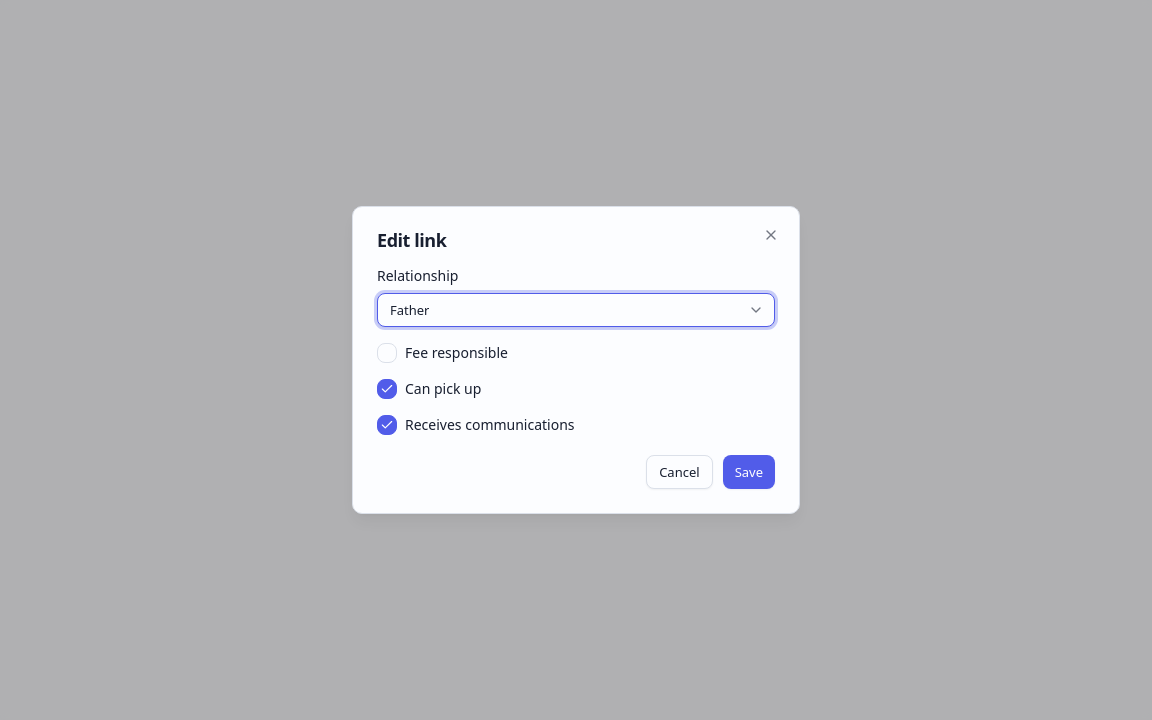
Scenario: GuardianLinkFlagsDialog › shows a server field error for a flag checkbox instead of failing silently
Step 1. Click the button "Save" → x=749, y=472, box left=723, top=455, right=775, bottom=489
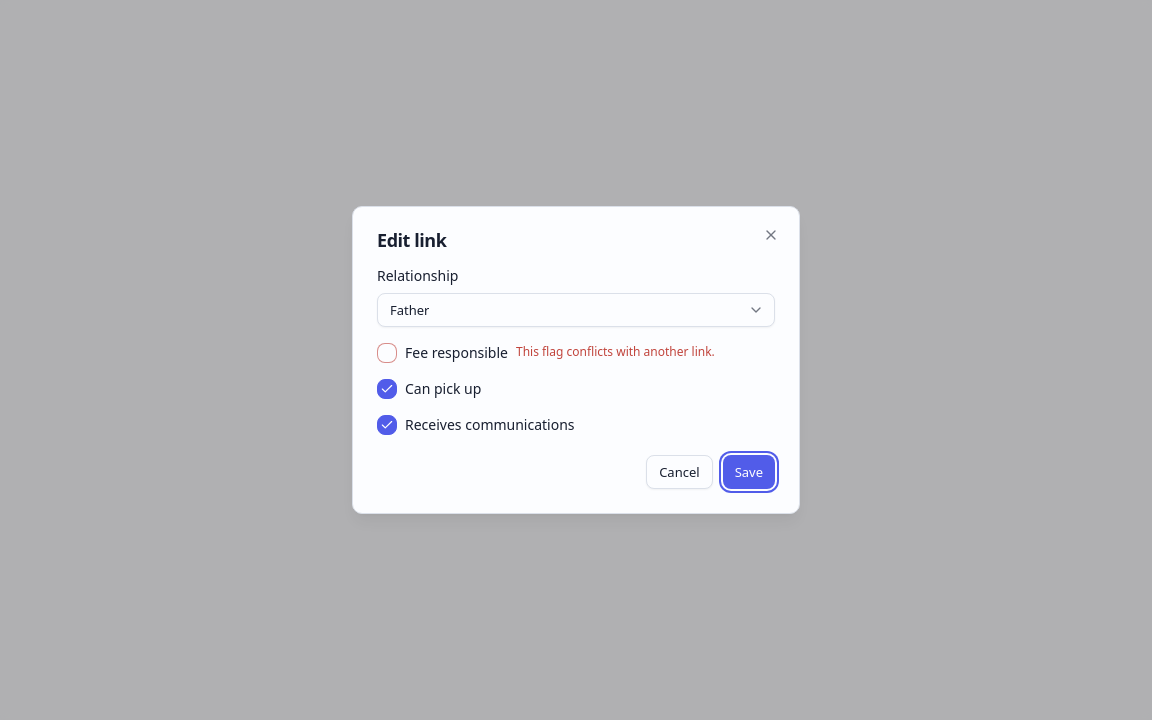
Result: the text "This flag conflicts with another link." is shown at left=516, top=344, right=715, bottom=360
